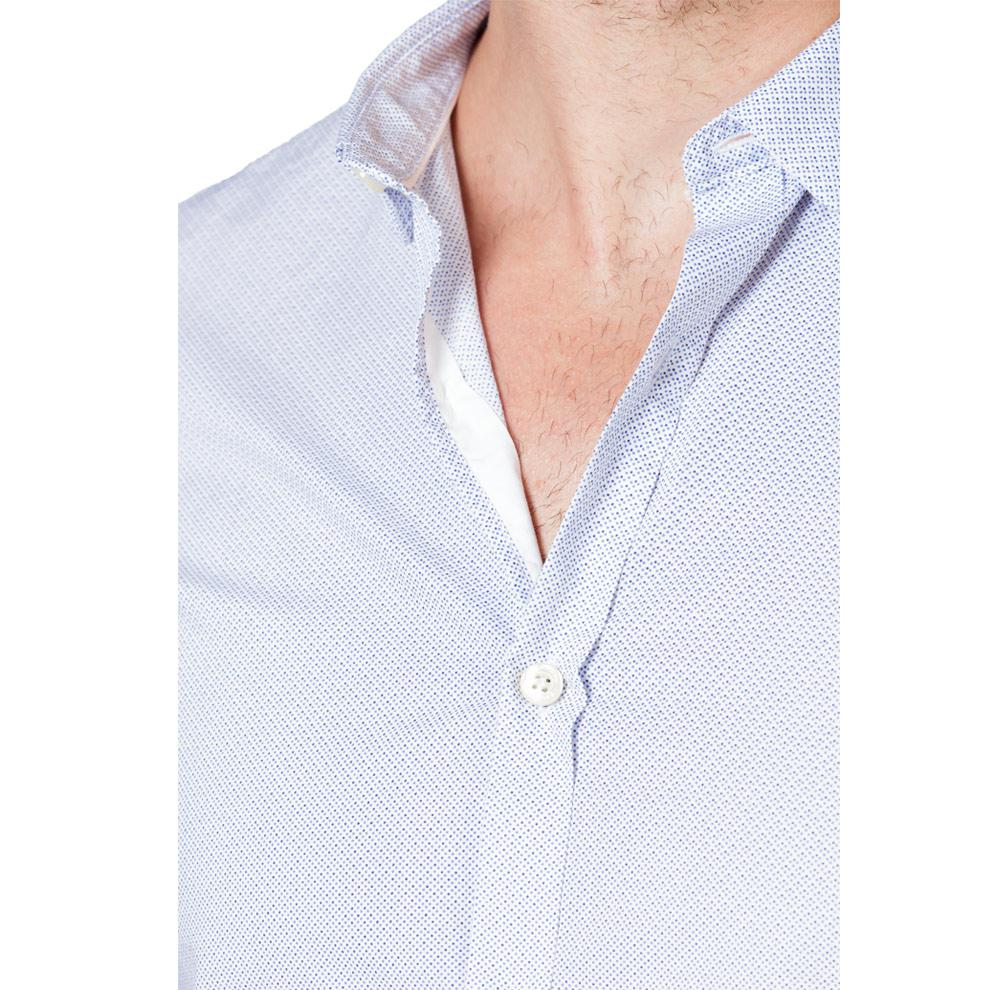teeshirt: (156, 78, 852, 990)
